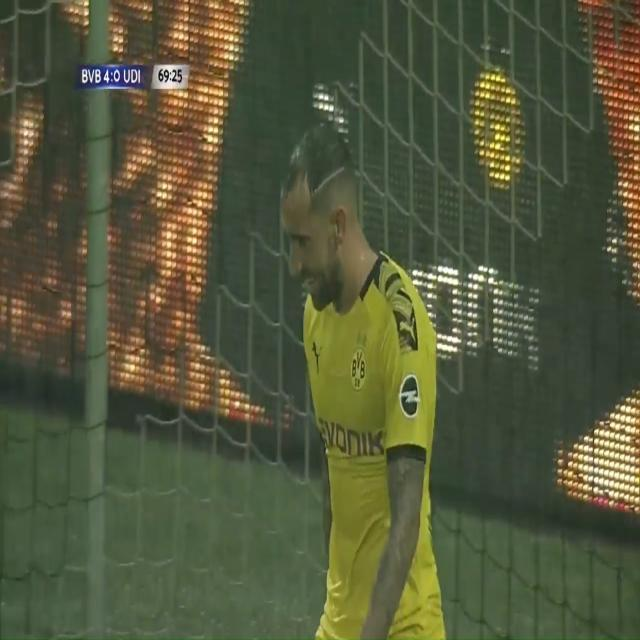player: (239, 65, 456, 640)
